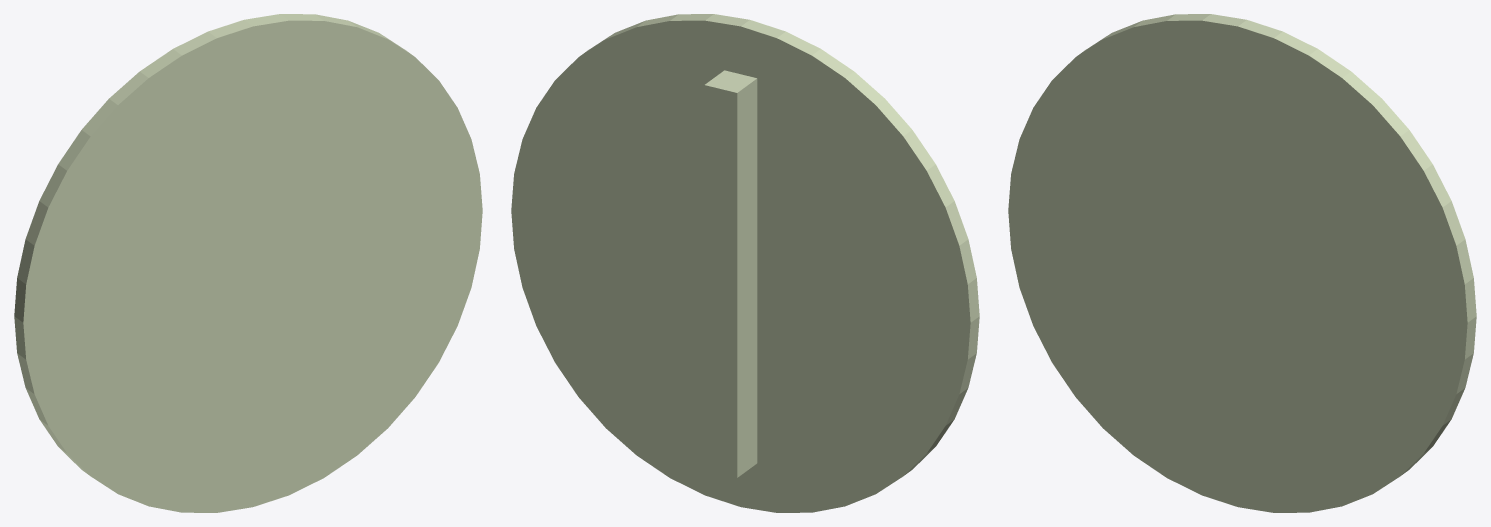
Rendered from furniture_sign_back_round.glb.
The picture shows the model from 3 angles, left to right: view 1: azimuth 30°, elevation 25°; view 2: azimuth 150°, elevation 25°; view 3: azimuth 330°, elevation 25°; orthographic projection.
Parts seen in each view (by area): view 1: back_plate; view 2: back_plate, stiffener_0; view 3: back_plate.
Boxes of the visible parts, <box> form: back_plate: <box>14,14,482,512</box>; back_plate: <box>511,14,979,512</box>; stiffener_0: <box>704,70,757,477</box>; back_plate: <box>1008,14,1476,512</box>.
Bounding box in the file's own units: 0.6992 × 0.6992 × 0.077.
